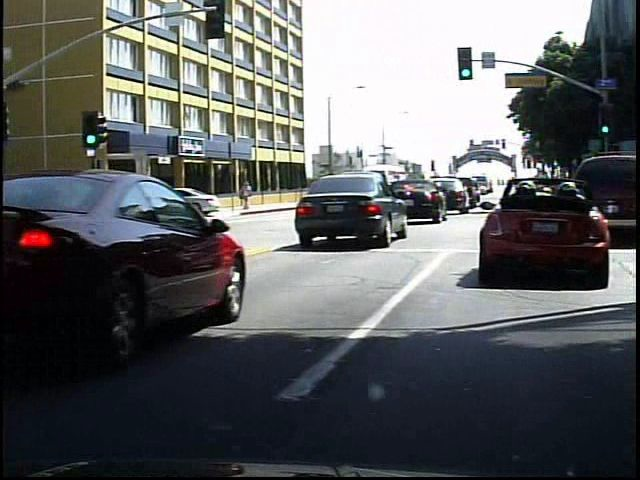person: (232, 176, 250, 213)
